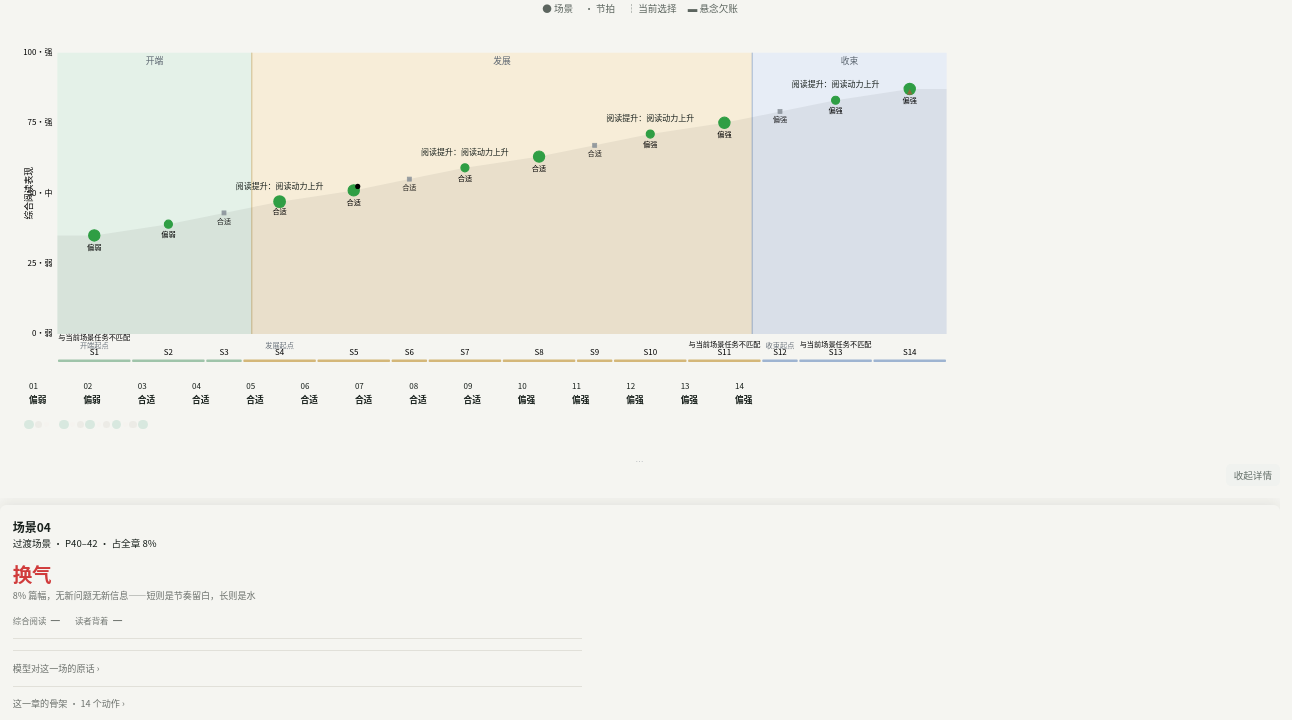
Test: ReaderJourneyWorkspace › expands and collapses detail without clearing selection
(page scrolled)
Expected: the element with test id "journey-detail-pane" is shown, [0,498,1280,719]
Click the button with test id "journey-collapse-inspector".
click(1253, 475)  # box [1226,464,1280,486]
(page scrolled)
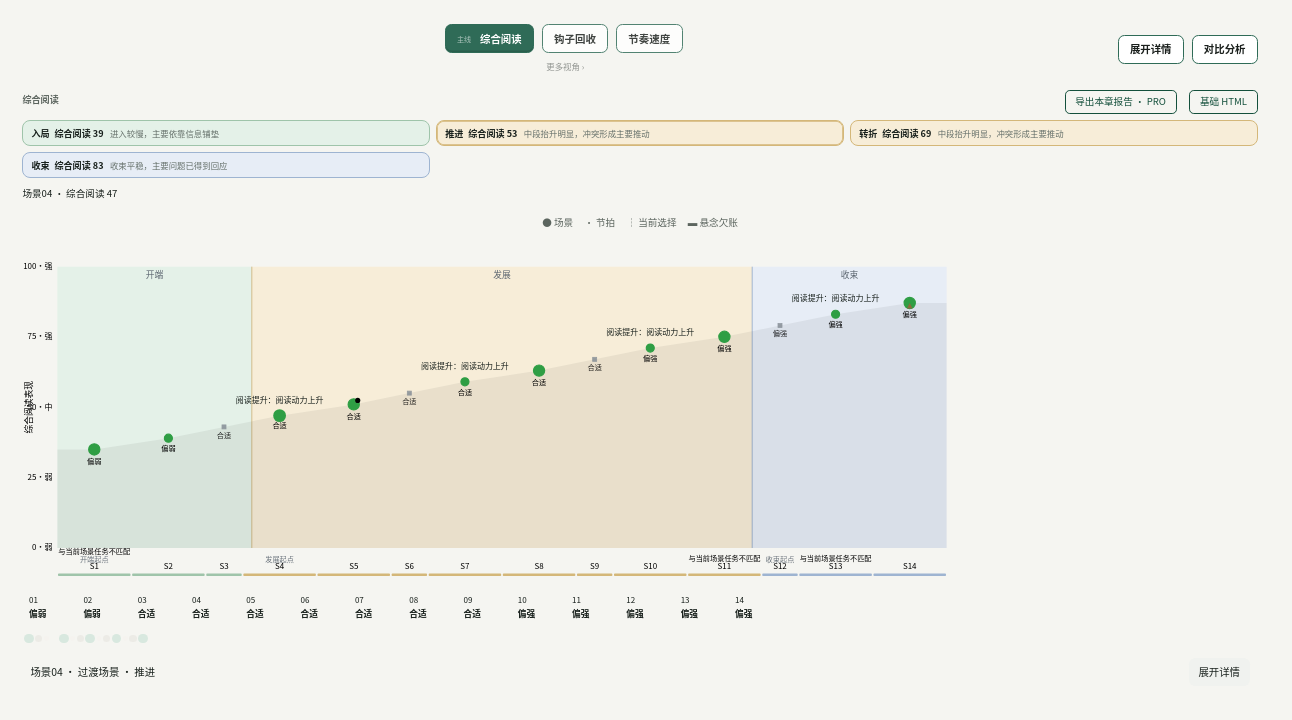
Expected: the button with test id "journey-inspector-summary-expand" is shown
Expected: the text with test id "journey-inspector-summary-text" reads "场景04 · 过渡场景 · 推进", [30,664,155,679]
Click the button with test id "journey-inspector-summary-expand".
click(1219, 672)  # box [1189,658,1250,686]
(page scrolled)
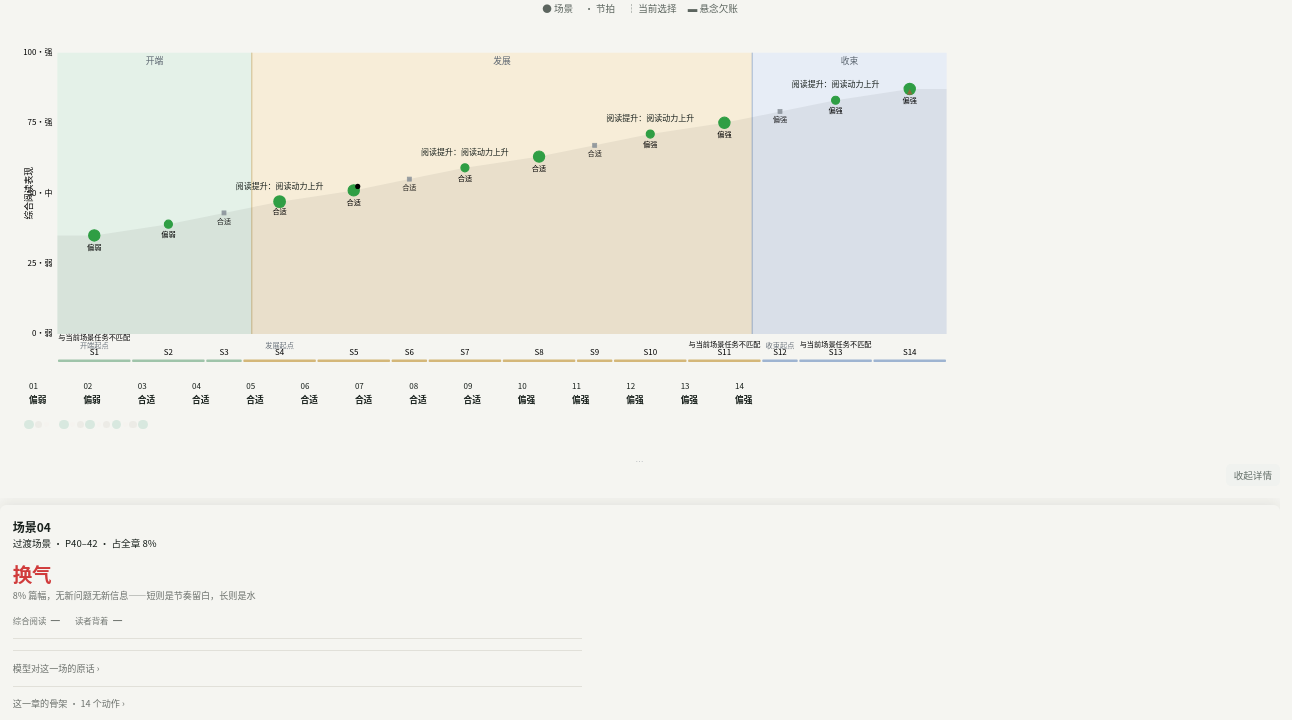
Expected: the element with test id "journey-detail-pane" is shown, [0,498,1280,719]
